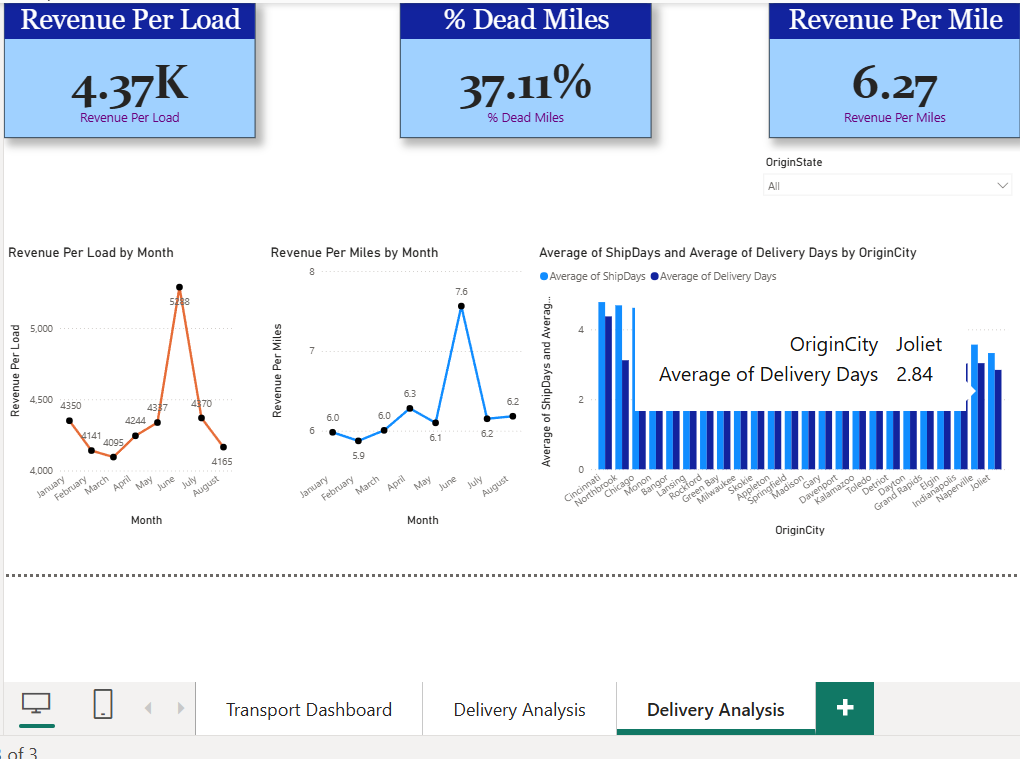

The dashboard page shown, as its layout file describes it:
{"tool":"powerbi","page":{"name":"Delivery Analysis","canvas":[1280,720],"ordinal":2},"visuals":[{"type":"card","title":"Revenue Per Load","fields":{"Values":["Trips.Revenue Per Load"]},"box":[0,0,317,170.2],"z":0},{"type":"lineChart","fields":{"Category":["Trips.ShipDate.Variation.Date Hierarchy.Month"],"Y":["Trips.Revenue Per Load"]},"box":[0,304.6,292.3,359.5],"z":1000},{"type":"card","title":"Revenue Per Mile","fields":{"Values":["Trips.Revenue Per Miles"]},"box":[963.3,0,317,170.2],"z":2000},{"type":"lineChart","fields":{"Category":["Trips.ShipDate.Variation.Date Hierarchy.Month"],"Y":["Trips.Revenue Per Miles"]},"box":[330.7,304.6,328,359.5],"z":3000},{"type":"card","title":"% Dead Miles","fields":{"Values":["Trips.% Dead Miles"]},"box":[499.5,0,317,170.2],"z":4000},{"type":"slicer","fields":{"Values":["Trips.OriginState"]},"box":[946.8,188,333.4,149.6],"z":5000},{"type":"clusteredColumnChart","fields":{"Y":["Avg(Trips.ShipDays)","Avg(Trips.Delivery Days)"],"Category":["Trips.OriginCity"]},"box":[669.6,304.6,601,371.9],"z":6000}]}

Visuals, with their boxes on the page's 1280x720 design canvas (x1, y1, x2, y2). These are canvas units, not pixel positions in the 1020x759 screenshot, which may show the page scaled, cropped or inside an application window:
"Revenue Per Load" card: (0, 0, 317, 170)
lineChart - Trips.ShipDate.Variation.Date Hierarchy.Month x Trips.Revenue Per Load: (0, 305, 292, 664)
"Revenue Per Mile" card: (963, 0, 1280, 170)
lineChart - Trips.ShipDate.Variation.Date Hierarchy.Month x Trips.Revenue Per Miles: (331, 305, 659, 664)
"% Dead Miles" card: (500, 0, 816, 170)
slicer - Trips.OriginState: (947, 188, 1280, 338)
clusteredColumnChart - Avg(Trips.ShipDays) x Avg(Trips.Delivery Days): (670, 305, 1271, 676)
